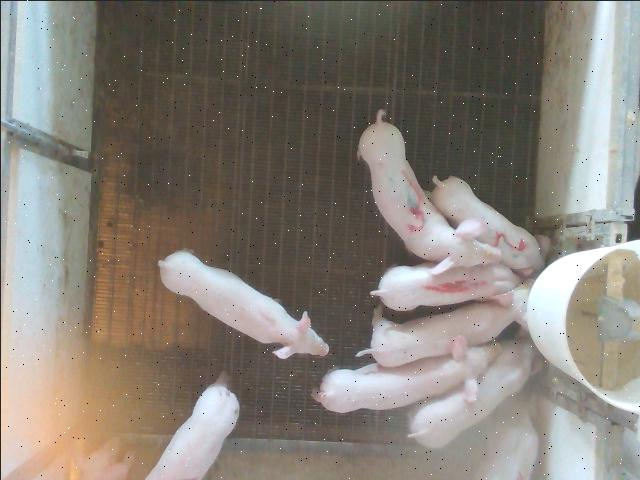pig-1: (370, 262, 520, 310)
pig-3: (356, 109, 501, 273)
pig-5: (429, 175, 549, 271)
